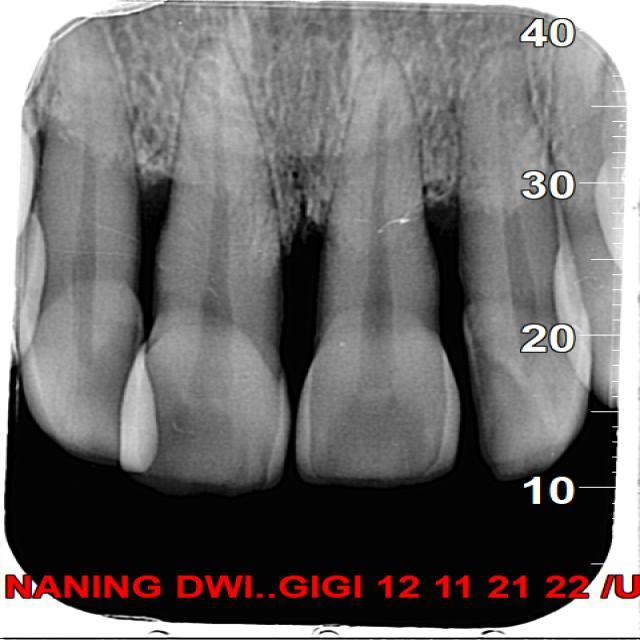individual-tooth-8tto: (122, 28, 282, 486), (296, 46, 458, 488)
